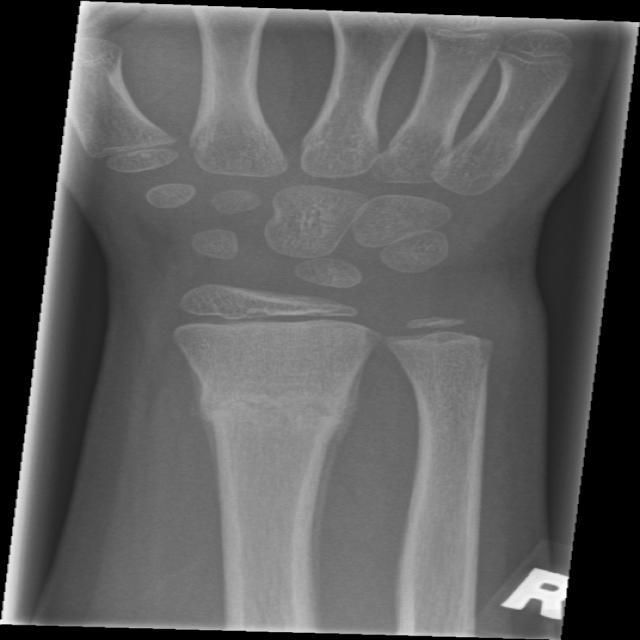radius fracture: (180, 354, 379, 504)
